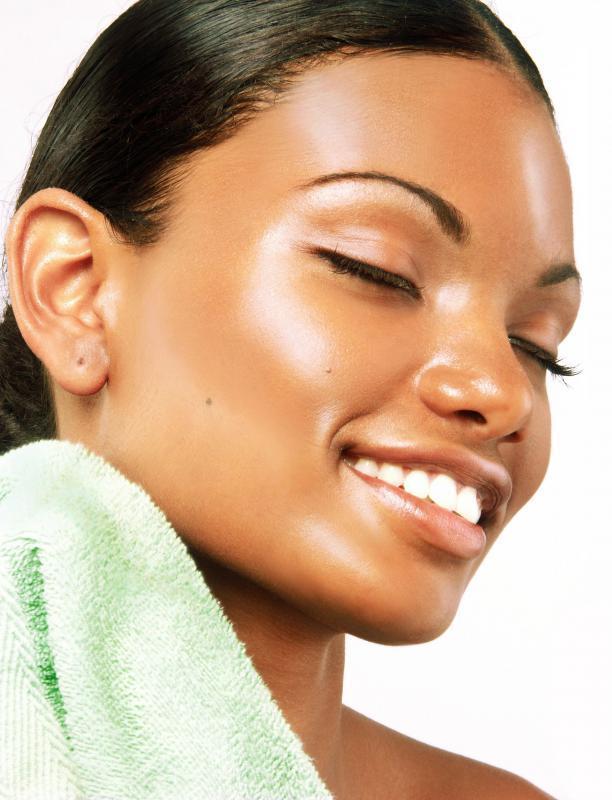Oily-Skin: (168, 241, 330, 433), (261, 483, 385, 578), (296, 73, 406, 166), (416, 303, 496, 386)
